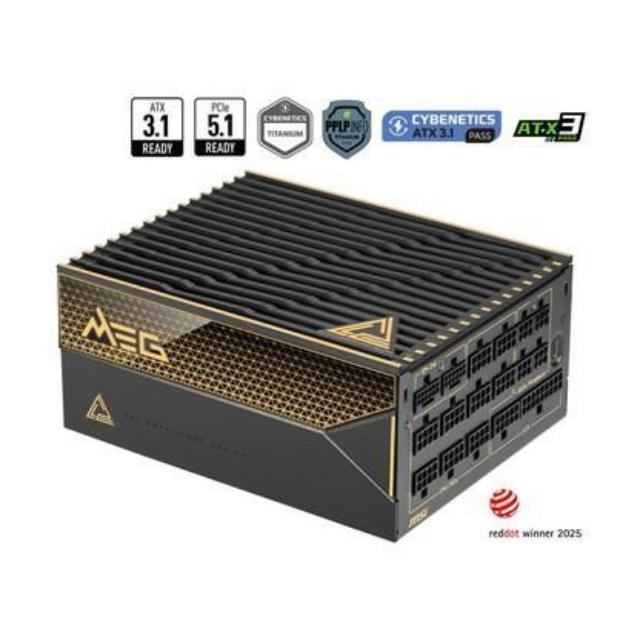PSU: (39, 166, 576, 552)
